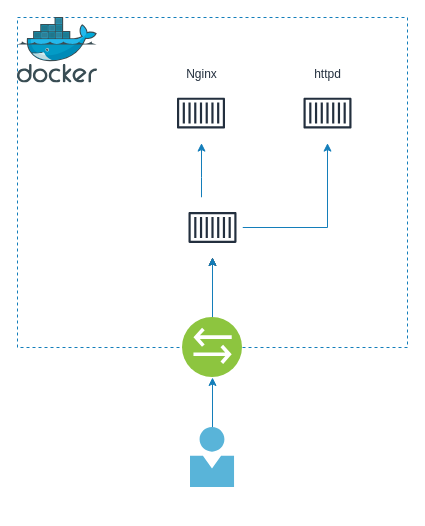
Some shapes in this 425 by 526 pixel diagram are drawn without their labels. Here are the shapes that lost their labels. From the top down, the box of each, then its label:
(182, 196, 242, 258): HAProxy
(190, 427, 234, 487): Host
